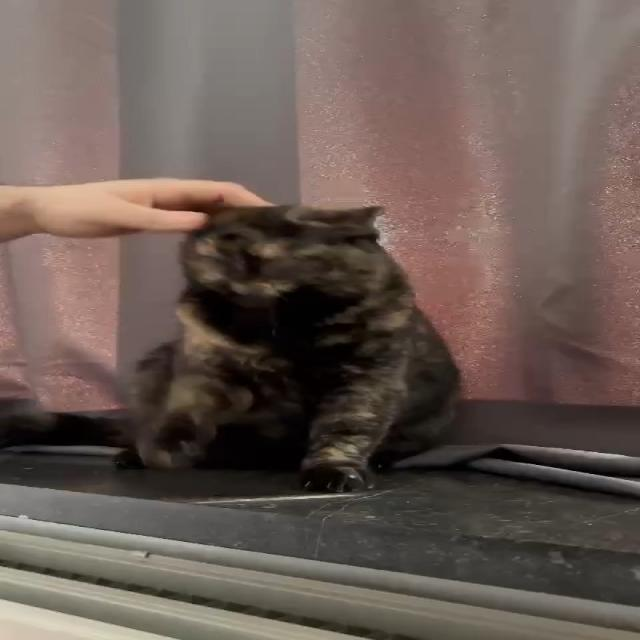authorized: (116, 202, 463, 493)
